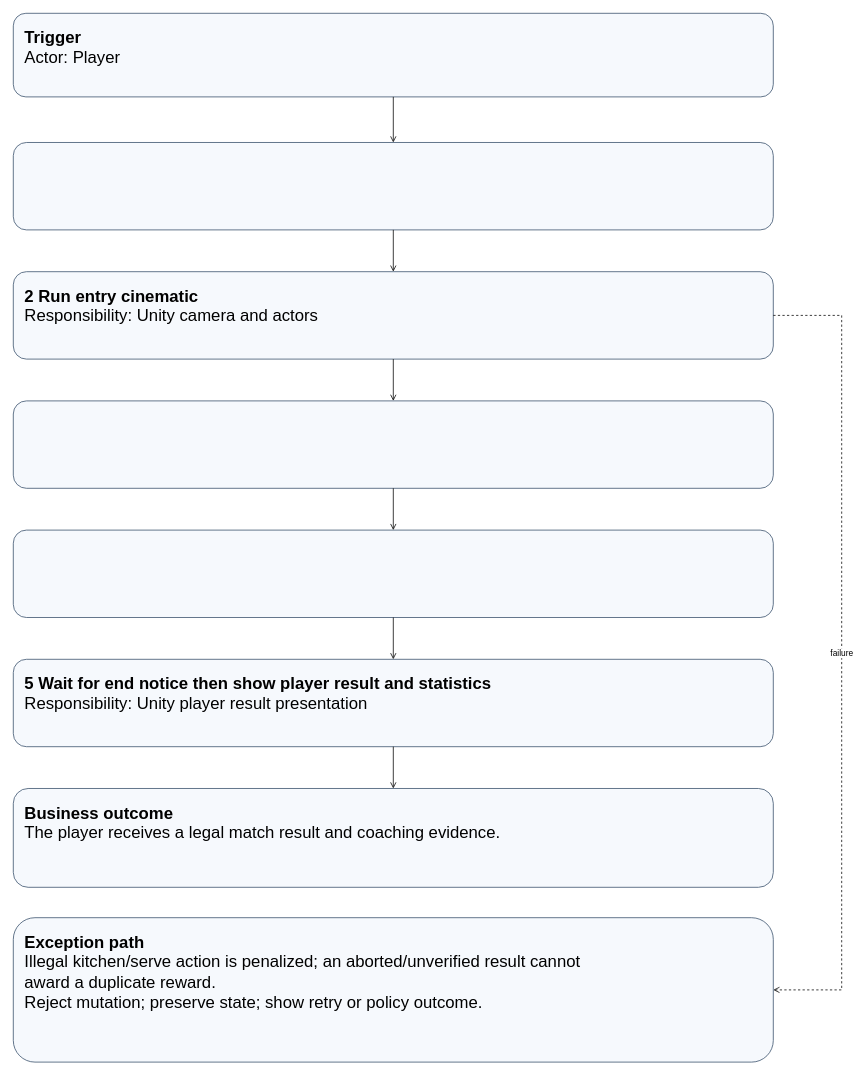
The diagram is 866 pixels wide and 1075 high, and some of its shapes have lost their labels. Each missing label, with the box of its shape:
1 Choose bot difficulty and court Responsibility: Player and Unity mode setup: (13, 142, 773, 230)
3 Play serve and rally with legal inputs Responsibility: Player and Unity rules: (13, 400, 773, 488)
4 Resolve points and match end Responsibility: Unity rules and result API: (13, 529, 773, 618)
